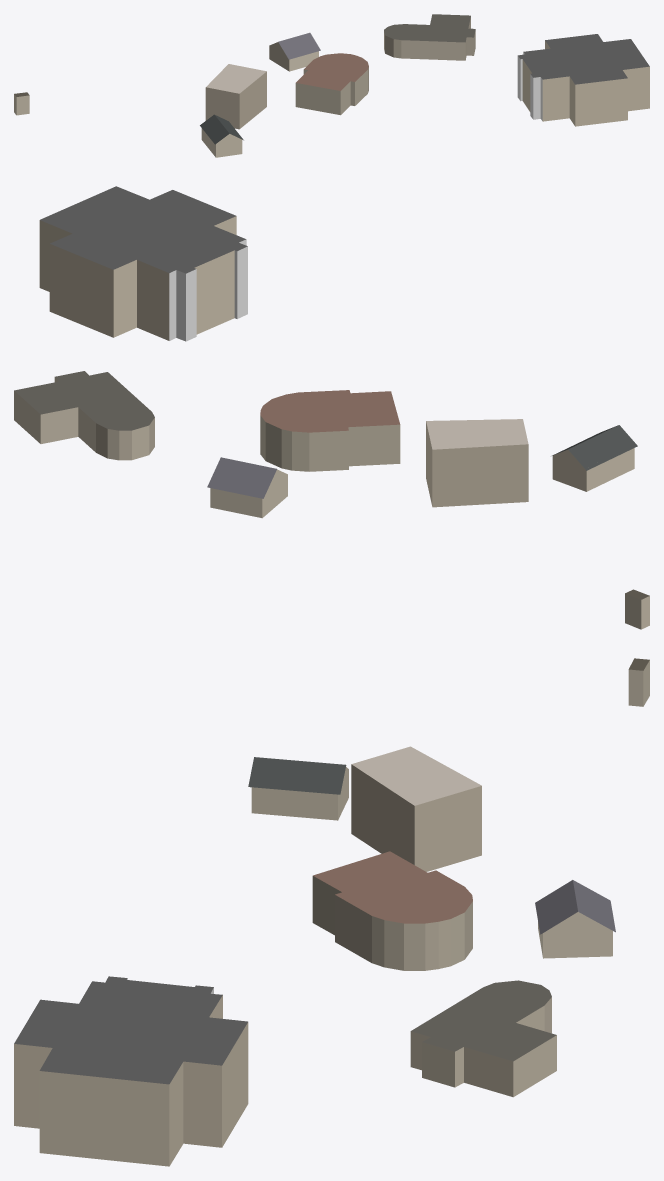
3 views of the same model, one above another, from view 1: azimuth 30°, elevation 25°; view 2: azimuth 150°, elevation 25°; view 3: azimuth 270°, elevation 25° (orthographic). The views are drawn at different scales.
Parts seen in each view (by area): view 1: tuile; view 2: tuile; view 3: tuile.
Boxes of the visible parts, x1,y1,x2,y2 form: tuile: (14,14,649,157); tuile: (14,186,649,629); tuile: (14,658,649,1166).
Size of the model in its own units: 136 by 11.19 by 77.3.
